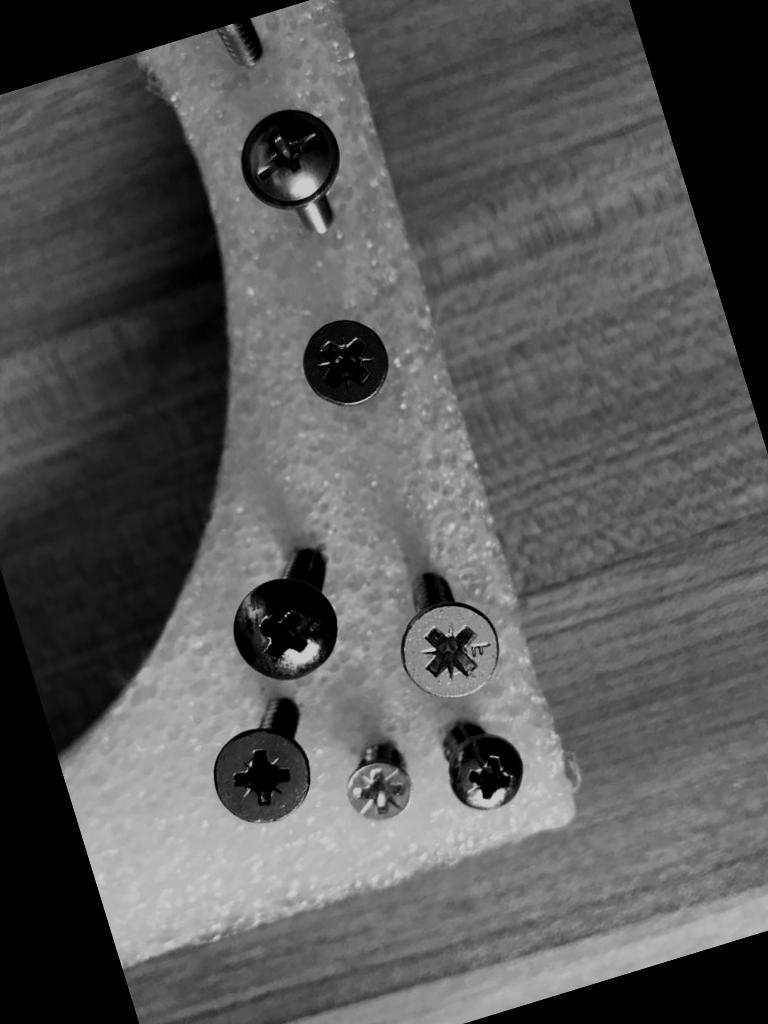screw: (223, 566, 350, 693), (228, 96, 352, 219), (390, 591, 512, 711), (202, 716, 323, 836), (291, 309, 398, 417), (441, 731, 534, 820), (340, 751, 420, 829)
